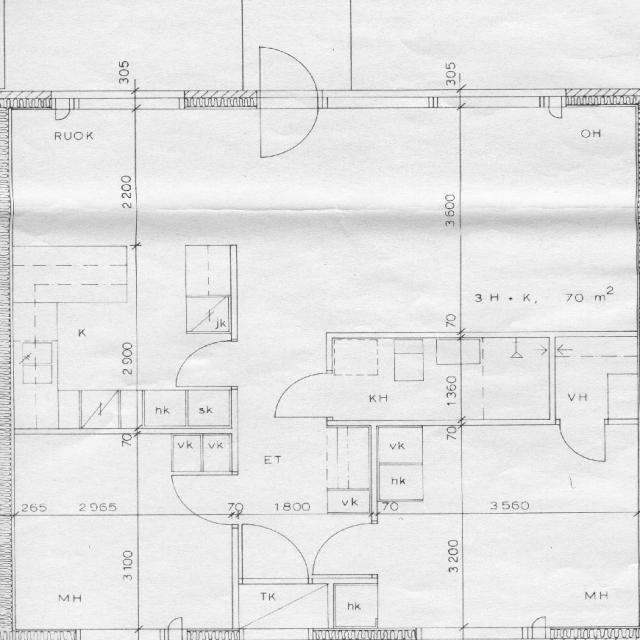door: (243, 521, 308, 584), (260, 91, 317, 157), (260, 43, 317, 109), (311, 524, 378, 574), (172, 474, 237, 524), (177, 341, 237, 386), (274, 373, 334, 417), (560, 418, 604, 463)
